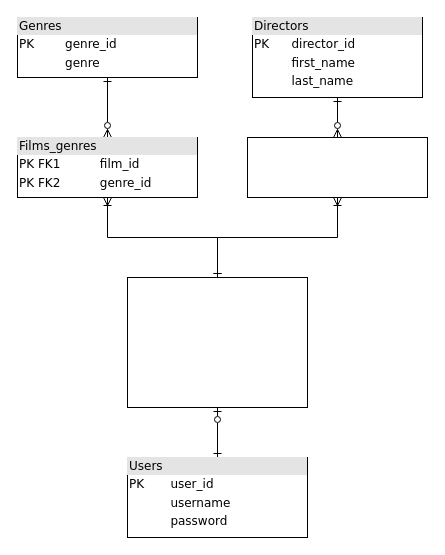
Some shapes in this 445 by 555 pixel diagram are drawn without their labels. The box of each missing label's shape, as (x1, y1, x2, y2) in pixels:
Films PK film_id FK1 film_title release_date film_desc rating poster user_id: (126, 276, 308, 408)
Films_directors PK FK1 film_id PK FK2 director_id: (246, 136, 428, 198)
